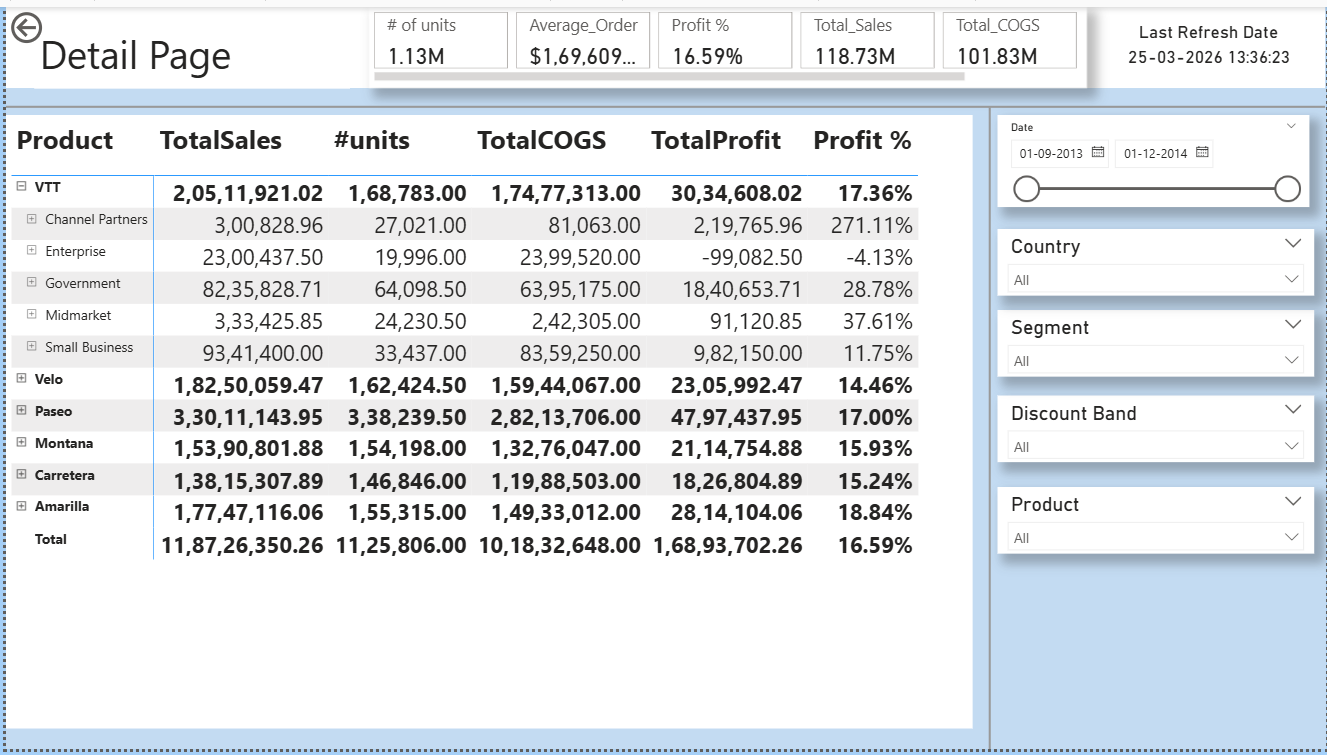

This screenshot's page, from the dashboard's own definition file:
{"tool":"powerbi","page":{"name":"Detail Page","canvas":[1280,720],"ordinal":2},"visuals":[{"type":"shape","box":[0,0,1280,78.6],"z":0},{"type":"shape","box":[937.7,97.2,34.4,623.8],"z":1000},{"type":"textbox","box":[28.4,14.2,305.8,64.8],"z":2000},{"type":"card","title":"Last Refresh Date","fields":{"Values":["Min(LastRefreshDate.LastRefresh)"]},"box":[1070.4,15.1,194.5,48.4],"z":3000},{"type":"cardVisual","fields":{"Data":["financials.# of units","financials.Average_Order","financials.Profit %","financials.Total_Sales","financials.Total_COGS(Cost Of Goods Sold)","financials.Total_Profit"]},"box":[352.4,0,696.7,79],"z":4000},{"type":"shape","box":[0,88.6,1280,16.1],"z":9000},{"type":"slicer","fields":{"Values":["financials.Product"]},"box":[961.8,466.3,307.7,64.8],"z":10000},{"type":"slicer","fields":{"Values":["financials.Discount Band"]},"box":[961.8,377.3,307.7,64.8],"z":12000},{"type":"slicer","fields":{"Values":["financials.Date"]},"box":[961.8,105.2,302.8,89.1],"z":13000},{"type":"slicer","fields":{"Values":["financials.Segment"]},"box":[961.8,294.7,307.7,64.8],"z":14000},{"type":"pivotTable","fields":{"Rows":["financials.Product","financials.Segment","financials.Discount Band","financials.Country"],"Values":["financials.Total_Sales","financials.# of units","financials.Total_COGS(Cost Of Goods Sold)","financials.Total_Profit","financials.Profit %"]},"box":[0,105.3,937.7,595.4],"z":14001},{"type":"slicer","fields":{"Values":["financials.Country"]},"box":[961.8,215.4,307.7,64.8],"z":14002},{"type":"actionButton","box":[0,0,100,40],"z":14003}]}

Visuals, with their boxes in screenshot pixels (x1, y1, x2, y2), scaled from the page's 1280x720 canvas onto the 1327x755 screenshot:
shape: [0, 0, 1326, 82]
shape: [972, 102, 1008, 754]
textbox: [29, 15, 346, 83]
"Last Refresh Date" card: [1110, 16, 1311, 67]
cardVisual - financials.# of units x financials.Average_Order: [365, 0, 1088, 83]
shape: [0, 93, 1326, 110]
slicer - financials.Product: [997, 489, 1316, 557]
slicer - financials.Discount Band: [997, 396, 1316, 464]
slicer - financials.Date: [997, 110, 1311, 204]
slicer - financials.Segment: [997, 309, 1316, 377]
pivotTable - financials.Product x financials.Segment: [0, 110, 972, 735]
slicer - financials.Country: [997, 226, 1316, 294]
actionButton: [0, 0, 104, 42]
